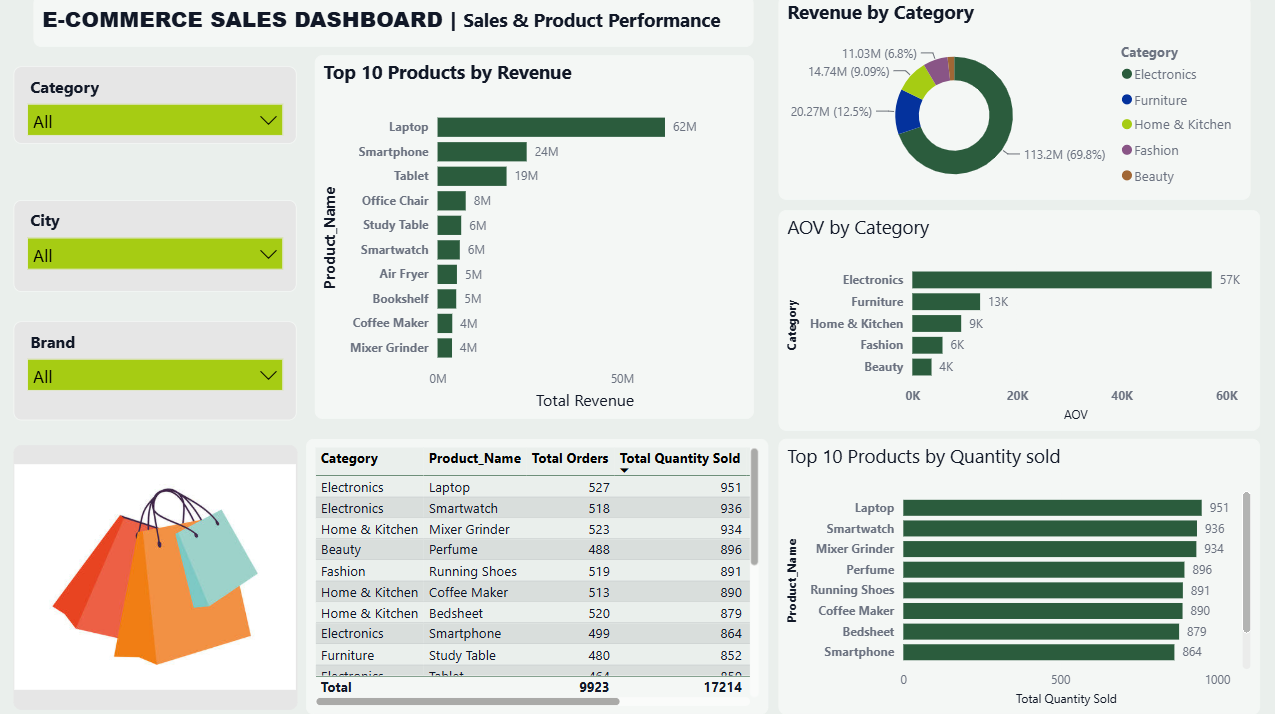

The dashboard page shown, as its layout file describes it:
{"tool":"powerbi","page":{"name":"Sales & Product Performance","canvas":[1280,720],"ordinal":1},"visuals":[{"type":"donutChart","title":"Revenue by Category","fields":{"Category":["Clean_Data.Category"],"Y":["Clean_Data.Total Revenue"]},"box":[783,0,471.7,205.1],"z":0},{"type":"clusteredBarChart","title":"Top 10 Products by Revenue","fields":{"Category":["Clean_Data.Product_Name"],"Y":["Clean_Data.Total Revenue"]},"box":[318.5,60.3,439.1,364.3],"z":1000},{"type":"clusteredBarChart","title":"Top 10 Products by Quantity sold","fields":{"Category":["Clean_Data.Product_Name"],"Y":["Clean_Data.Total Quantity Sold"]},"box":[783,444,481.4,276.3],"z":2000},{"type":"clusteredBarChart","fields":{"Category":["Clean_Data.Category"],"Y":["Clean_Data.AOV"]},"box":[783,214.7,481.4,220.8],"z":3000},{"type":"tableEx","fields":{"Values":["Clean_Data.Category","Clean_Data.Product_Name","Clean_Data.Total Orders","Clean_Data.Total Quantity Sold","Clean_Data.Total Revenue","Clean_Data.AOV"]},"box":[310.1,444,462.1,276.3],"z":4000},{"type":"textbox","box":[37.4,0,720.2,51.9],"z":5000},{"type":"slicer","fields":{"Values":["Clean_Data.Category"]},"box":[18.1,71.2,283.5,77.2],"z":6000},{"type":"slicer","fields":{"Values":["Clean_Data.City"]},"box":[18.1,205.1,283.5,91.7],"z":7000},{"type":"slicer","fields":{"Values":["Clean_Data.Brand"]},"box":[18.1,325.7,283.5,98.9],"z":8000},{"type":"image","box":[17.8,449.7,283.9,264.9],"z":9000}]}

Visuals, with their boxes in screenshot pixels (x1, y1, x2, y2), scaled from the page's 1280x720 canvas onto the 1275x714 screenshot:
"Revenue by Category" donutChart: x1=780 y1=0 x2=1250 y2=203
"Top 10 Products by Revenue" clusteredBarChart: x1=317 y1=60 x2=755 y2=421
"Top 10 Products by Quantity sold" clusteredBarChart: x1=780 y1=440 x2=1259 y2=713
clusteredBarChart - Clean_Data.Category x Clean_Data.AOV: x1=780 y1=213 x2=1259 y2=432
tableEx - Clean_Data.Category x Clean_Data.Product_Name: x1=309 y1=440 x2=769 y2=713
textbox: x1=37 y1=0 x2=755 y2=51
slicer - Clean_Data.Category: x1=18 y1=71 x2=300 y2=147
slicer - Clean_Data.City: x1=18 y1=203 x2=300 y2=294
slicer - Clean_Data.Brand: x1=18 y1=323 x2=300 y2=421
image: x1=18 y1=446 x2=301 y2=709
